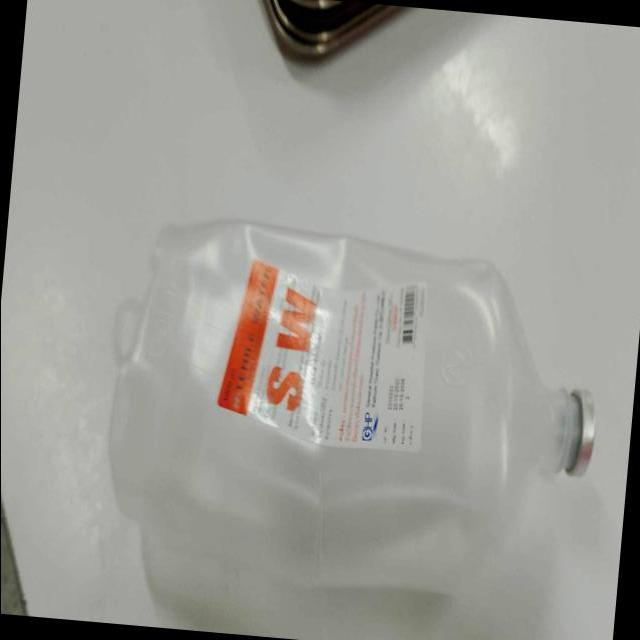General: (213, 257, 428, 454)
Infectious: (109, 217, 598, 637)
